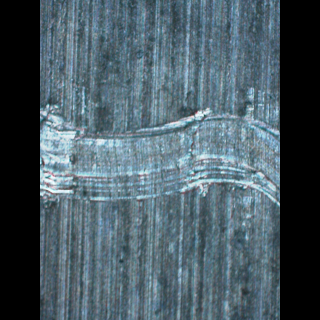d: (39, 95, 279, 216)
